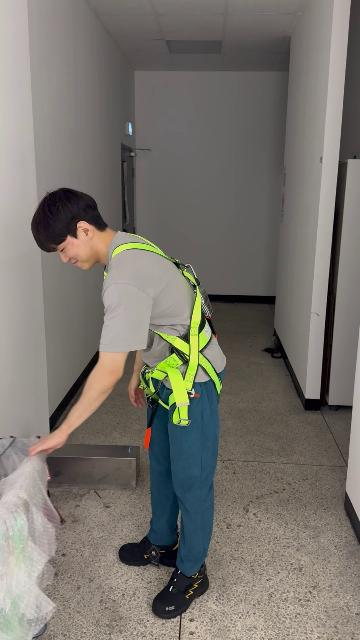helmet_not_worn: (32, 187, 109, 253)
shoe_worn: (151, 563, 209, 619), (119, 532, 179, 567)
vest_worn: (104, 238, 222, 413)
